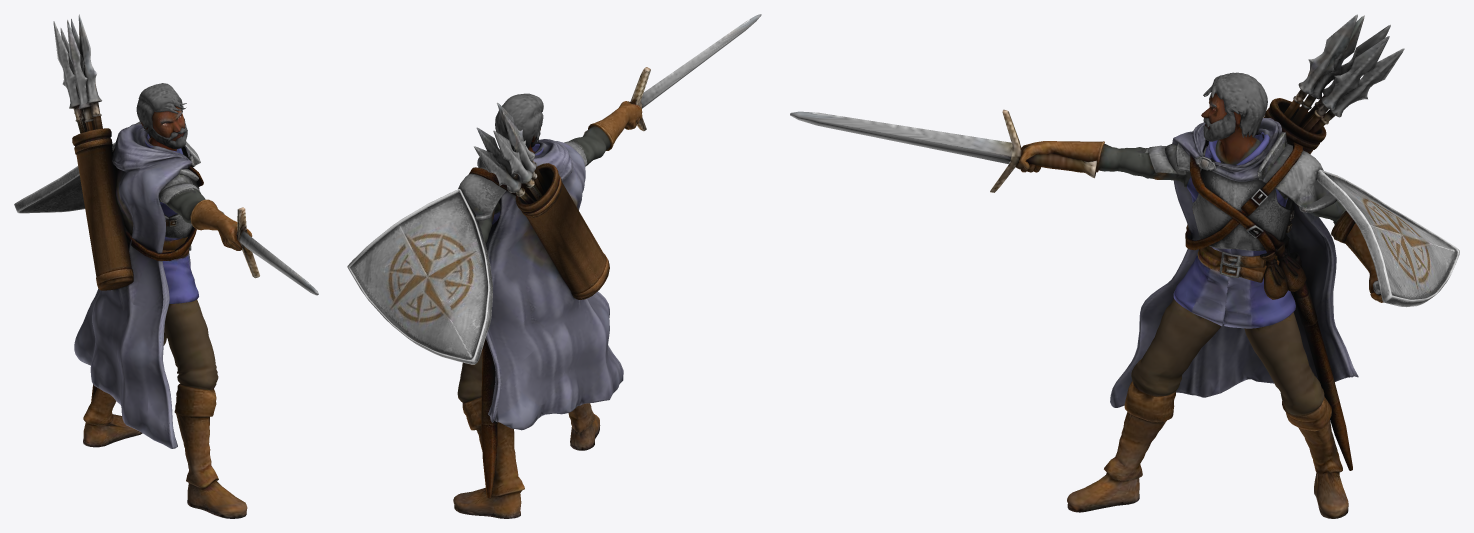
File: MZ4250 - Human Male Guard Captain_1 2025.glb
3 renders of one model, left to right at view 1: azimuth 30°, elevation 25°; view 2: azimuth 150°, elevation 25°; view 3: azimuth 270°, elevation 25°, orthographic. The views are drawn at different scales.
Parts seen in each view (by area): view 1: Body.002; view 2: Body.002; view 3: Body.002.
Boxes of the visible parts, <box> form: Body.002: <box>14,14,318,518</box>; Body.002: <box>347,14,761,518</box>; Body.002: <box>790,14,1459,518</box>.
Bounding box in the file's own units: 42.66 × 97.2 × 124.
6 materials, 6 textured.
